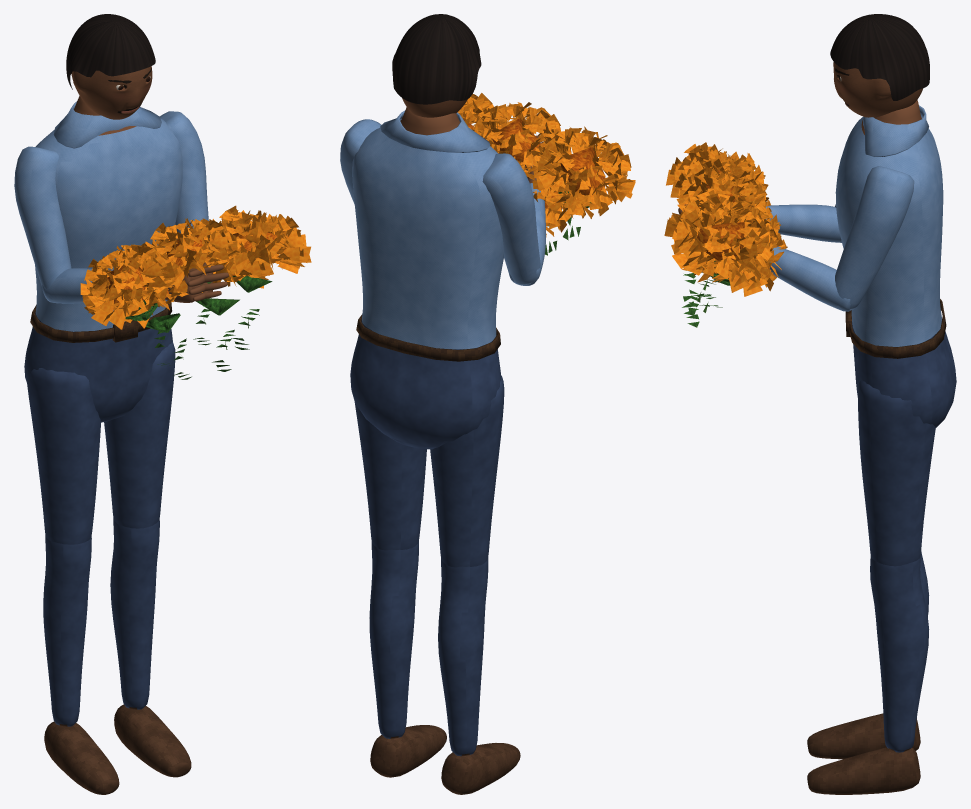
File: persona_hombre_flores.obj
The picture shows the model from 3 angles, left to right: view 1: azimuth 30°, elevation 25°; view 2: azimuth 150°, elevation 25°; view 3: azimuth 270°, elevation 25°; orthographic projection.
Parts seen in each view (by area): view 1: persona_hombre_flores, Flor_Cempasuchil.001, Flor_Cempasuchil.003, Flor_Cempasuchil.002, Flor_Cempasuchil.005, Flor_Cempasuchil.004; view 2: persona_hombre_flores, Flor_Cempasuchil.001, Flor_Cempasuchil.002, Flor_Cempasuchil.004, Flor_Cempasuchil.003; view 3: persona_hombre_flores, Flor_Cempasuchil.003, Flor_Cempasuchil.002, Flor_Cempasuchil.005, Flor_Cempasuchil.001.
Boxes of the visible parts, x1,y1,x2,y2 form: persona_hombre_flores: (14, 14, 228, 794); Flor_Cempasuchil.001: (80, 243, 178, 365); Flor_Cempasuchil.003: (206, 205, 311, 349); Flor_Cempasuchil.002: (145, 218, 241, 345); Flor_Cempasuchil.005: (196, 236, 273, 371); Flor_Cempasuchil.004: (113, 265, 191, 379); persona_hombre_flores: (340, 14, 545, 794); Flor_Cempasuchil.001: (528, 126, 635, 240); Flor_Cempasuchil.002: (473, 102, 569, 179); Flor_Cempasuchil.004: (519, 159, 588, 255); Flor_Cempasuchil.003: (457, 93, 507, 130); persona_hombre_flores: (678, 14, 956, 794); Flor_Cempasuchil.003: (664, 190, 773, 315); Flor_Cempasuchil.002: (670, 158, 768, 283); Flor_Cempasuchil.005: (682, 209, 787, 327); Flor_Cempasuchil.001: (666, 142, 768, 278).
Bounding box in the file's own units: 0.529 × 1.74 × 0.6075.
Materials: 16 (16 with a texture image).
